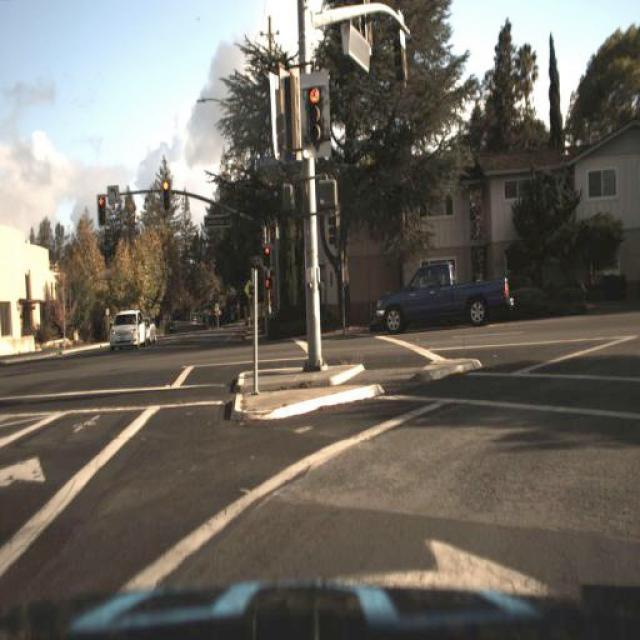semaforo: (306, 86, 322, 144), (96, 193, 106, 227), (162, 180, 171, 210)
